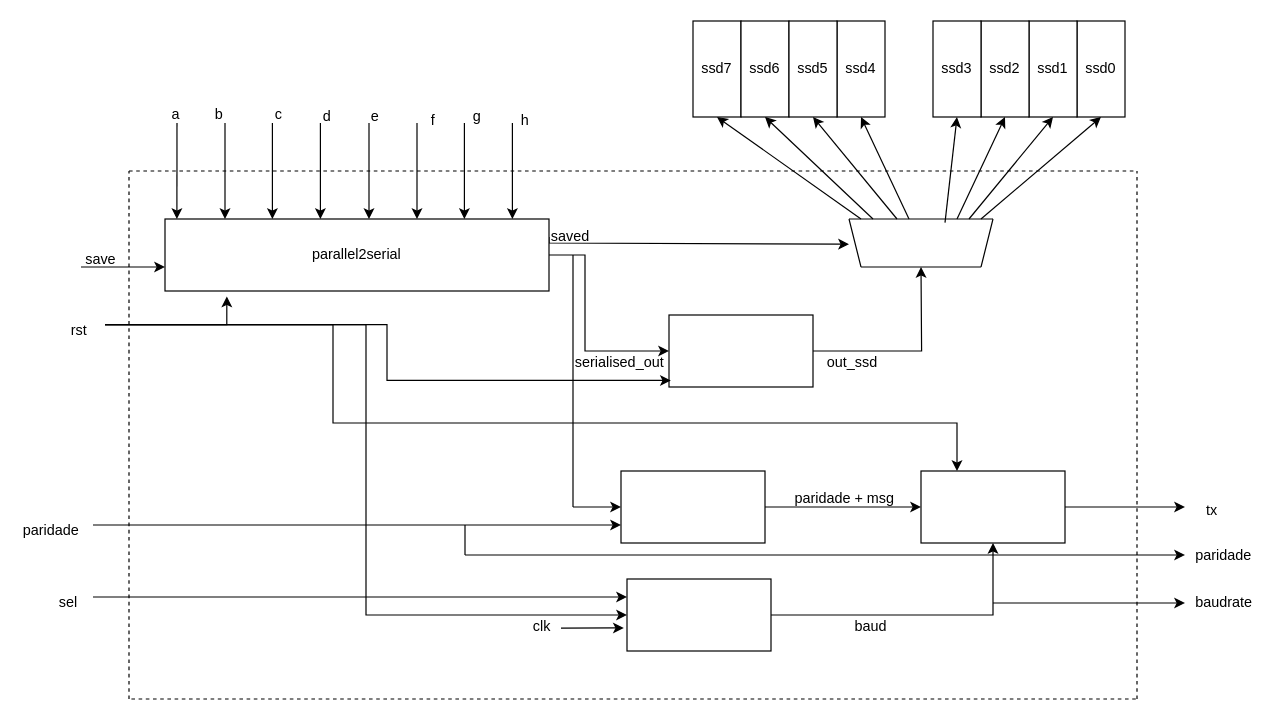
This 1285x721 diagram has some shape labels left out. The shapes that lost their labels are listed below. From the top down, each one's centre as x and y in pixels, then its label:
At (x=740, y=350): "ascii2ssd".
At (x=692, y=506): "paritygenerator".
At (x=992, y=506): "transmissor".
At (x=698, y=614): "baudrategenerator".
